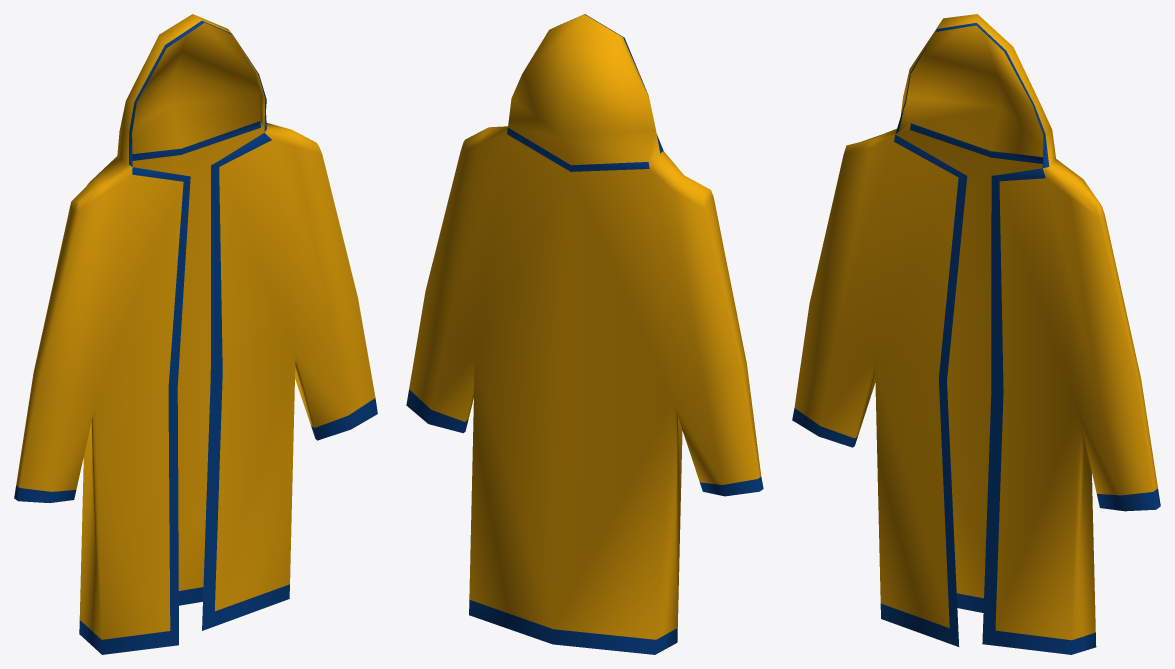
File: YellowRainCoat.fbx
3 renders of one model, left to right at view 1: azimuth 30°, elevation 25°; view 2: azimuth 150°, elevation 25°; view 3: azimuth 330°, elevation 25°, orthographic. The views are drawn at different scales.
Visible parts, largest first — view 1: RainCoat; view 2: RainCoat; view 3: RainCoat.
Part boxes in pixels (<box>): RainCoat: <box>14,14,377,654</box>; RainCoat: <box>406,14,763,654</box>; RainCoat: <box>792,14,1160,654</box>.
Size of the model in its own units: 88.38 by 147 by 17.75.
